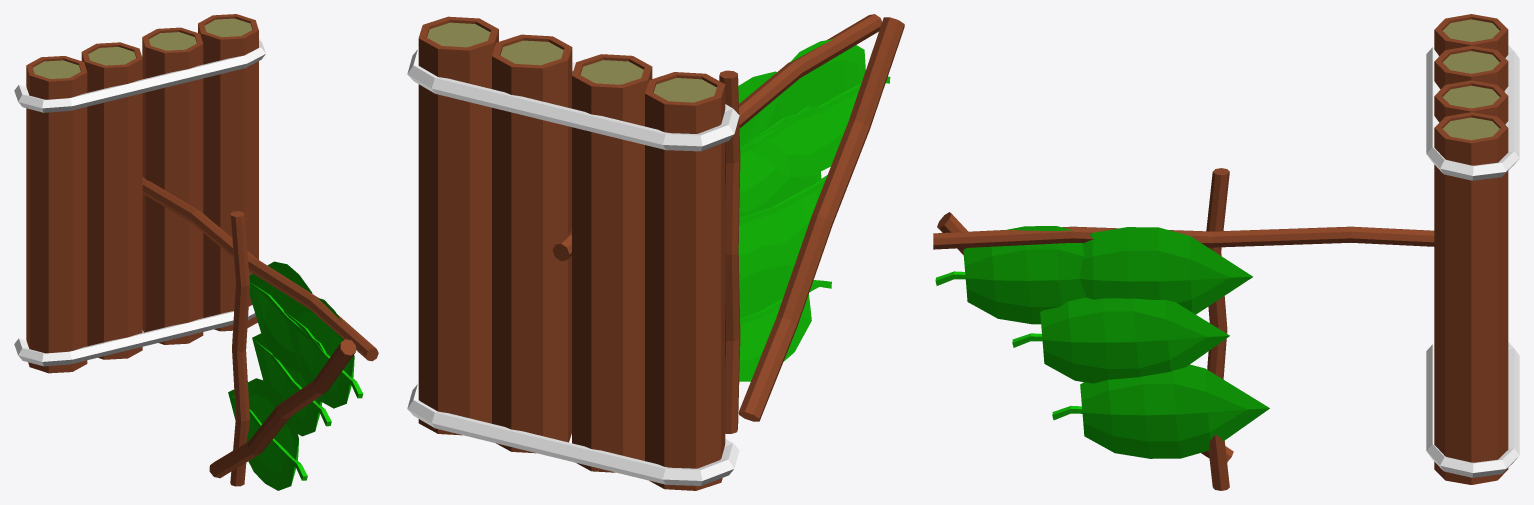
The model's file is Boat.fbx.
3 renders of one model, left to right at view 1: azimuth 30°, elevation 25°; view 2: azimuth 150°, elevation 25°; view 3: azimuth 270°, elevation 25°, orthographic. The views are drawn at different scales.
Visible parts, largest first — view 1: Torus; view 2: Torus; view 3: Torus.
Boxes of the visible parts, x1,y1,x2,y2 form: Torus: [14, 14, 378, 490]; Torus: [407, 14, 904, 490]; Torus: [933, 14, 1519, 490].
Size of the model in its own units: 576 by 800 by 1023.
